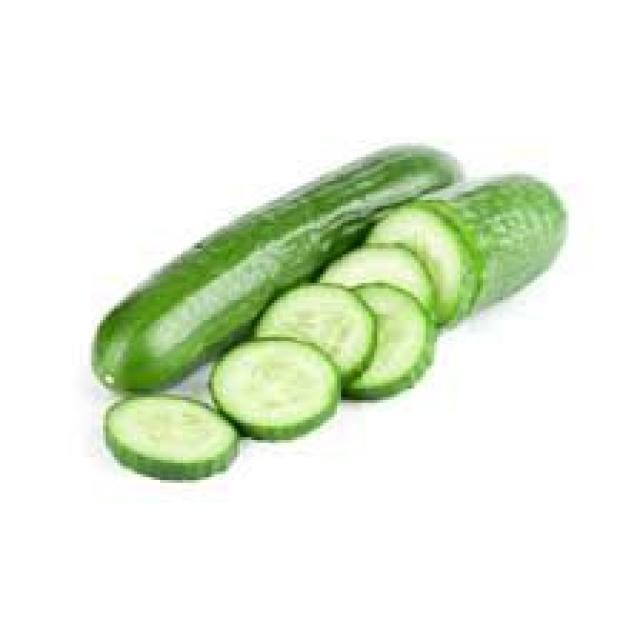cucumber: (93, 140, 570, 482)
